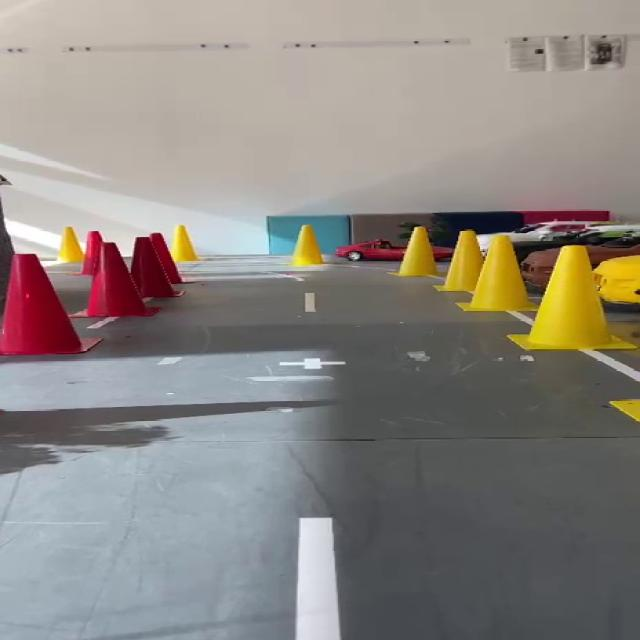Cone-red: (3, 254, 101, 355), (73, 242, 156, 316), (131, 237, 179, 297), (150, 233, 183, 284), (81, 231, 101, 275)
Cones-yellow: (509, 246, 634, 350), (459, 235, 528, 311), (439, 230, 483, 292), (396, 227, 437, 276), (292, 225, 323, 265), (172, 225, 199, 262), (58, 227, 83, 262), (611, 399, 639, 422)
